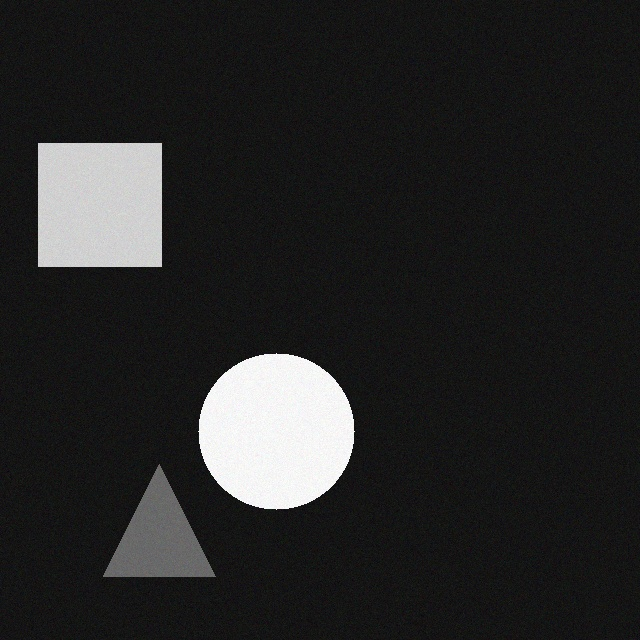circle: (197, 339, 353, 495)
square: (37, 129, 160, 252)
triangle: (102, 450, 214, 562)
